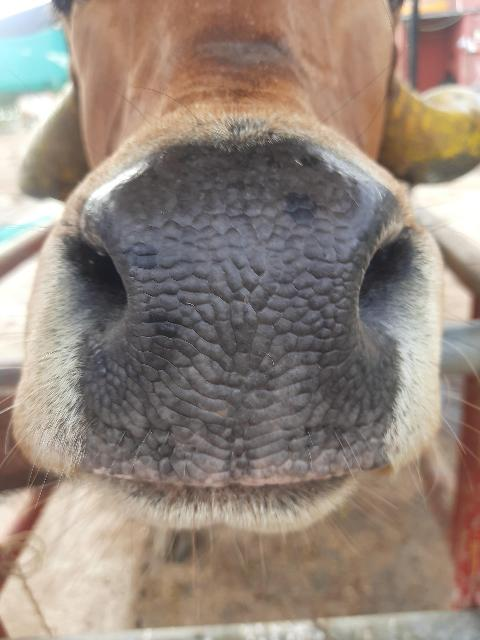Muzzle: (92, 200, 378, 472)
